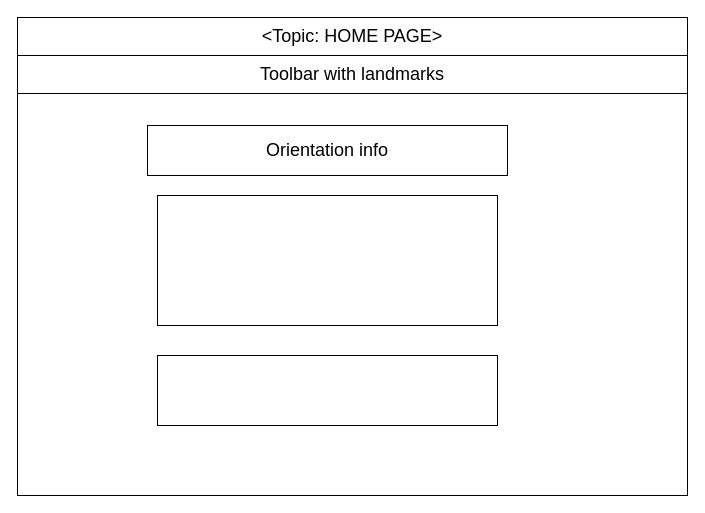
The diagram is 705 pixels wide and 513 high, and some of its shapes have lost their labels. Each missing label, with the centre of its shape:
carousel with images that can slide: (327,260)
General description of the festival: (327,390)
